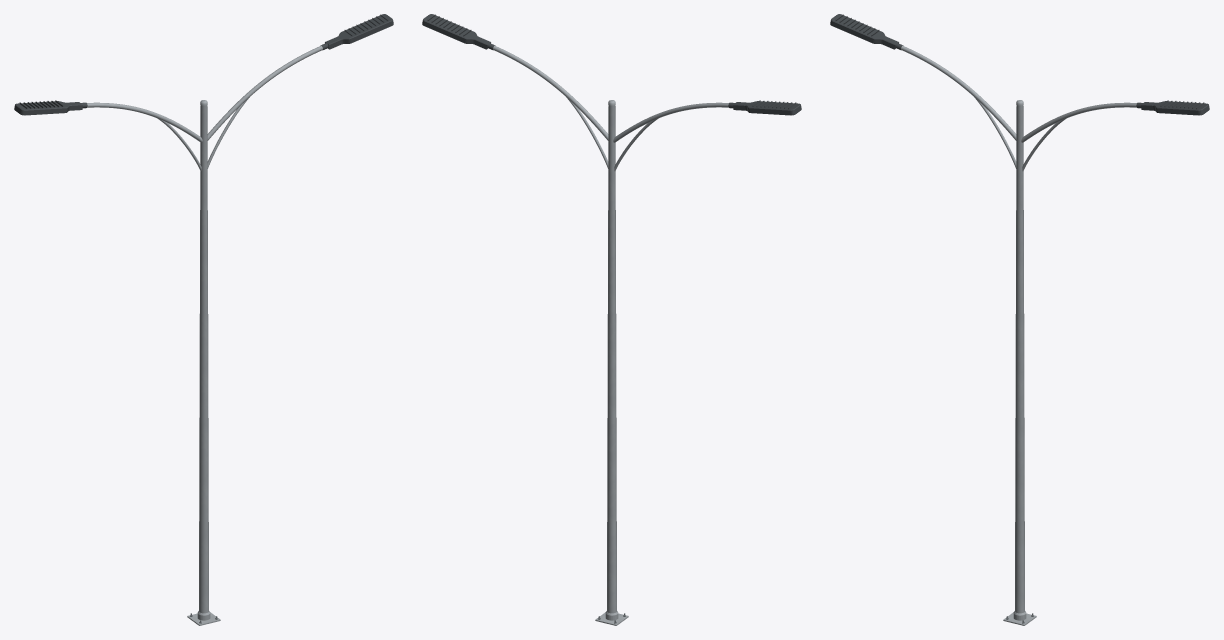
Rendered from poste_doble_led_lod0.glb.
The picture shows the model from 3 angles, left to right: view 1: azimuth 30°, elevation 25°; view 2: azimuth 150°, elevation 25°; view 3: azimuth 330°, elevation 25°; orthographic projection.
Visible parts, largest first — view 1: MAT_Steel_Galvanized, MAT_Paleta; view 2: MAT_Steel_Galvanized, MAT_Paleta; view 3: MAT_Steel_Galvanized, MAT_Paleta.
Part boxes in pixels (x1,y1,x2,y2): MAT_Steel_Galvanized: (87,45,322,625); MAT_Paleta: (14,14,393,623); MAT_Steel_Galvanized: (493,45,728,625); MAT_Paleta: (422,14,801,623); MAT_Steel_Galvanized: (901,45,1136,625); MAT_Paleta: (830,14,1209,623).
Bounding box in the file's own units: 7 × 10 × 0.4.
4 materials, 4 textured.
